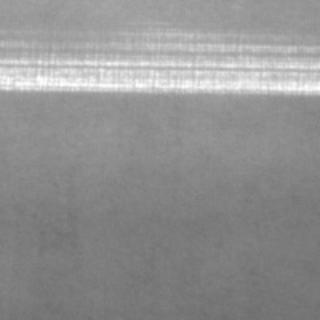scratches: (0, 39, 302, 90)
